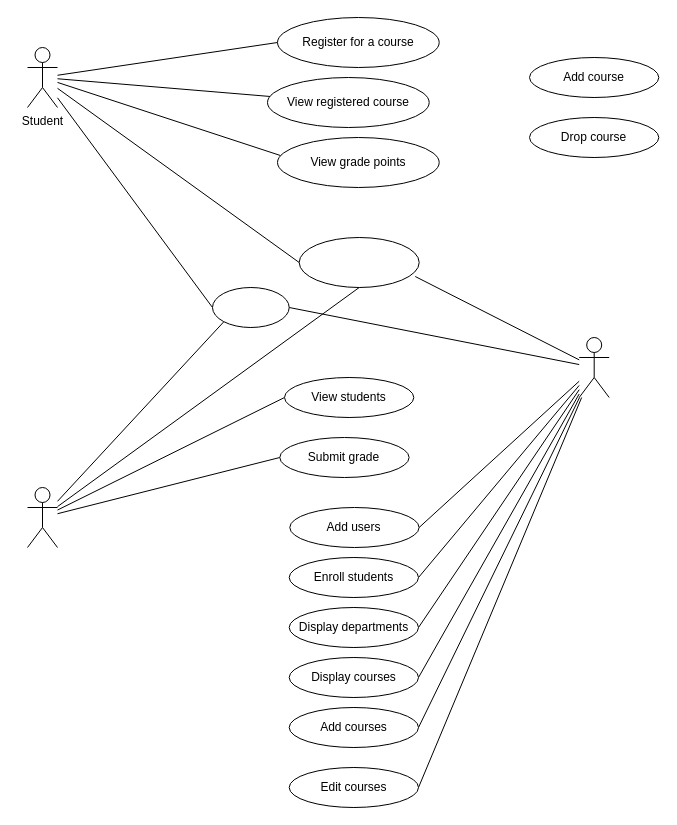
Some shapes in this 677 by 825 pixel diagram are drawn without their labels. Each missing label, with the centre of its shape:
Admin: (x=593, y=367)
Edit user account: (x=358, y=262)
Instructor: (x=42, y=517)
Login: (x=250, y=307)
